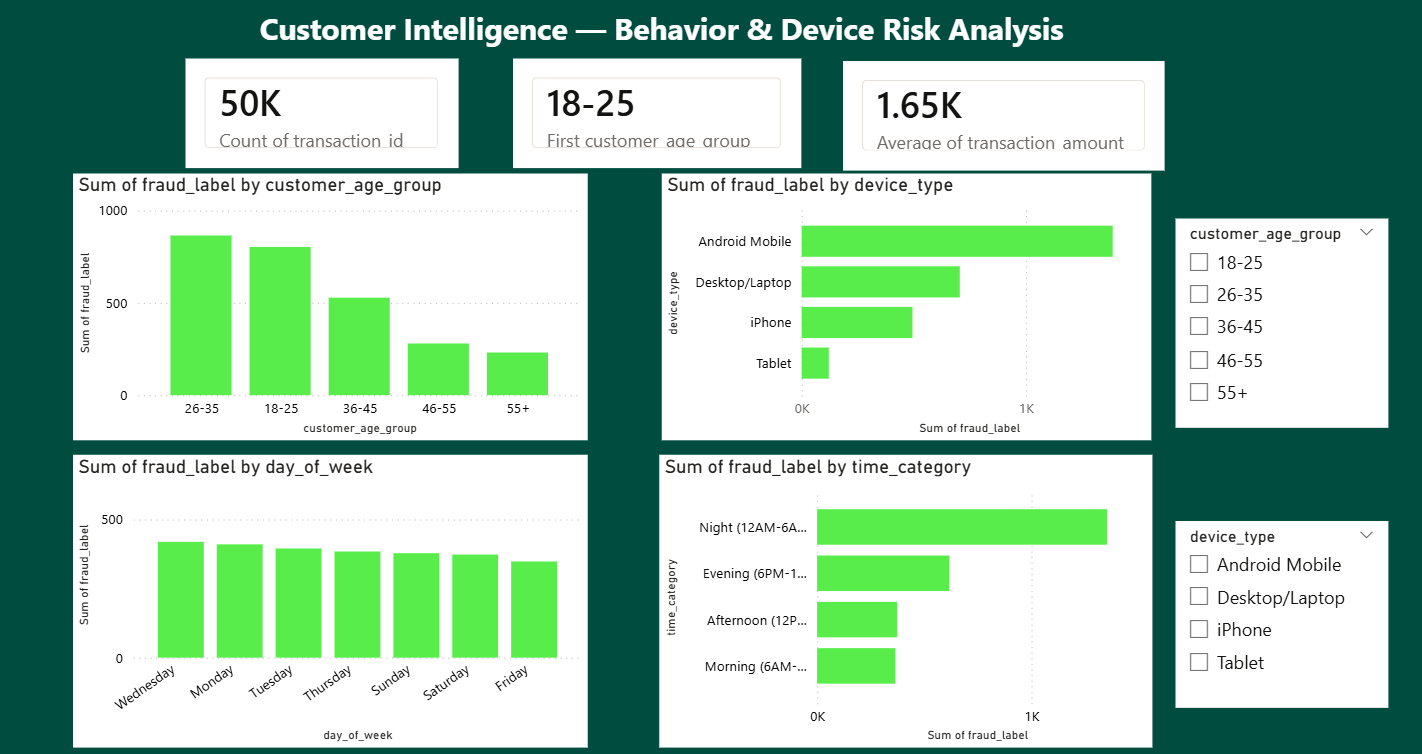

The page's visual inventory and layout, read from the dashboard file:
{"tool":"powerbi","page":{"name":"Customer Intelligence","canvas":[1280,720],"ordinal":4},"visuals":[{"type":"textbox","box":[211.3,45.3,776.7,50.8],"z":0},{"type":"clusteredColumnChart","fields":{"Category":["india_payments_clean.customer_age_group"],"Y":["Sum(india_payments_clean.fraud_label)"]},"box":[75.5,197.6,458.3,237.4],"z":1000},{"type":"clusteredBarChart","fields":{"Category":["india_payments_clean.device_type"],"Y":["Sum(india_payments_clean.fraud_label)"]},"box":[599.7,197.6,436.4,237.4],"z":2000},{"type":"clusteredColumnChart","fields":{"Category":["india_payments_clean.day_of_week"],"Y":["Sum(india_payments_clean.fraud_label)"]},"box":[75.5,448.7,458.3,260.7],"z":3000},{"type":"clusteredBarChart","fields":{"Category":["india_payments_clean.time_category"],"Y":["Sum(india_payments_clean.fraud_label)"]},"box":[598.3,448.7,439.1,260.7],"z":4000},{"type":"cardVisual","fields":{"Data":["CountNonNull(india_payments_clean.transaction_id)"]},"box":[175.6,96.1,242.9,97.4],"z":5000},{"type":"cardVisual","fields":{"Data":["Min(india_payments_clean.customer_age_group)"]},"box":[467.9,96.1,256.6,97.4],"z":6000},{"type":"cardVisual","fields":{"Data":["Avg(india_payments_clean.transaction_amount)"]},"box":[761.6,97.4,286.8,97.4],"z":7000},{"type":"slicer","fields":{"Values":["india_payments_clean.customer_age_group"]},"box":[1058,238.8,189.4,186.6],"z":8000},{"type":"slicer","fields":{"Values":["india_payments_clean.device_type"]},"box":[1058,507.7,189.4,166],"z":9000}]}

Visuals, with their boxes in screenshot pixels (x1, y1, x2, y2):
textbox: 228,2,1091,59
clusteredColumnChart - india_payments_clean.customer_age_group x Sum(india_payments_clean.fraud_label): 77,172,586,436
clusteredBarChart - india_payments_clean.device_type x Sum(india_payments_clean.fraud_label): 660,172,1145,436
clusteredColumnChart - india_payments_clean.day_of_week x Sum(india_payments_clean.fraud_label): 77,451,586,741
clusteredBarChart - india_payments_clean.time_category x Sum(india_payments_clean.fraud_label): 658,451,1146,741
cardVisual - CountNonNull(india_payments_clean.transaction_id): 188,59,458,167
cardVisual - Min(india_payments_clean.customer_age_group): 513,59,798,167
cardVisual - Avg(india_payments_clean.transaction_amount): 840,60,1159,169
slicer - india_payments_clean.customer_age_group: 1169,217,1380,425
slicer - india_payments_clean.device_type: 1169,517,1380,701
